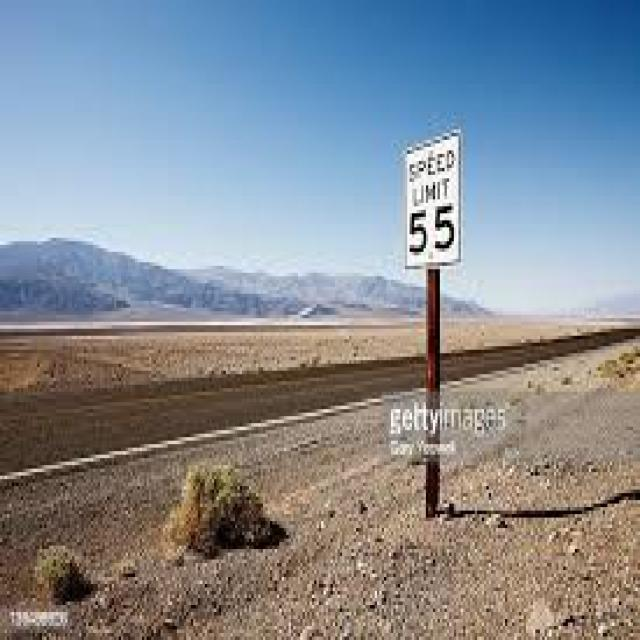speedLimit55: (399, 128, 467, 264)
